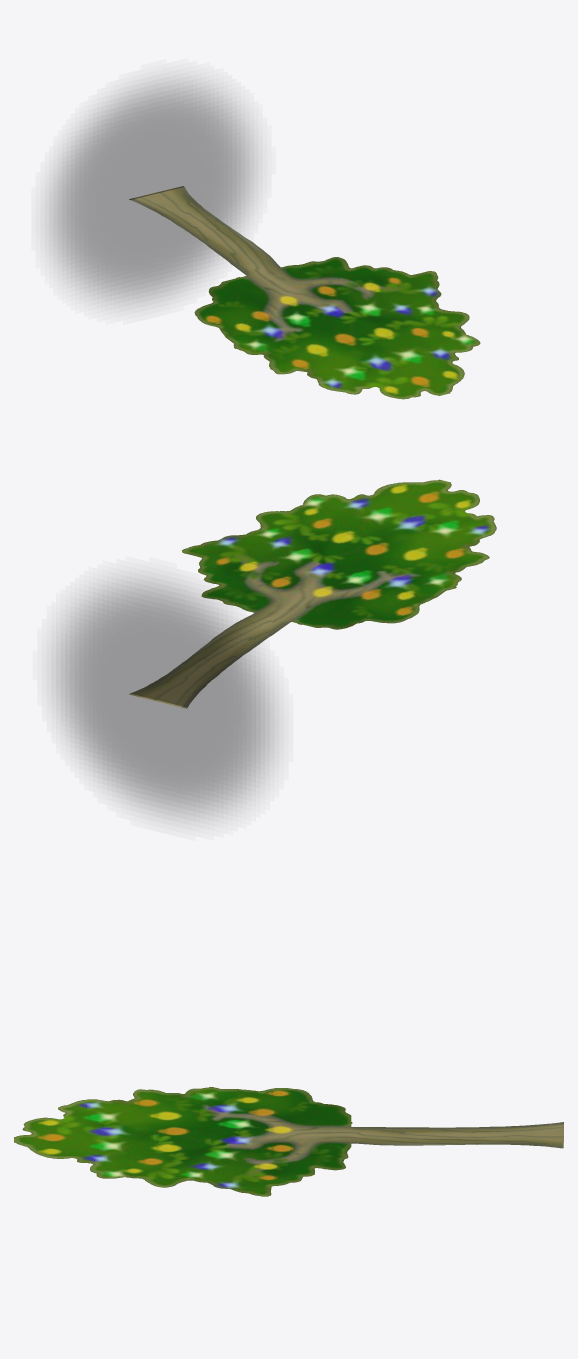
Rendered from prop_tree_large_ul.glb.
3 views of the same model, one above another, from view 1: azimuth 30°, elevation 25°; view 2: azimuth 150°, elevation 25°; view 3: azimuth 270°, elevation 25° (orthographic). The views are drawn at different scales.
Visible parts, largest first — view 1: shadow_large_no_box_ul, p273_11__billboard; view 2: shadow_large_no_box_ul, p273_11__billboard; view 3: p273_11__billboard.
Boxes of the visible parts, box(x1,y1,x2,y2) form: shadow_large_no_box_ul: box(49, 79, 253, 305); p273_11__billboard: box(129, 186, 480, 399); shadow_large_no_box_ul: box(56, 578, 274, 819); p273_11__billboard: box(129, 479, 496, 708); p273_11__billboard: box(14, 1087, 563, 1196).
Bounding box in the file's own units: 16.89 × 16.89 × 29.25.
Materials: 3 (3 with a texture image).
